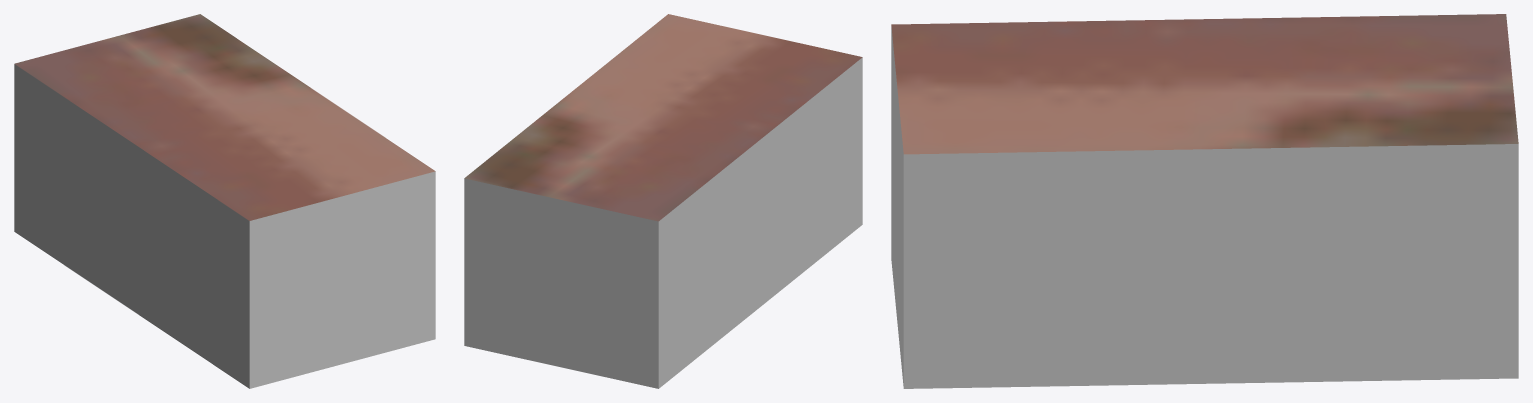
Rendered from DEBW_001000qHyx6.gltf.
3 renders of one model, left to right at view 1: azimuth 30°, elevation 25°; view 2: azimuth 150°, elevation 25°; view 3: azimuth 270°, elevation 25°, orthographic. The views are drawn at different scales.
Visible parts, largest first — view 1: Z_UP; view 2: Z_UP; view 3: Z_UP.
Boxes of the visible parts, x1=… form: Z_UP: x1=14, y1=14, x2=435, y2=388; Z_UP: x1=464, y1=14, x2=862, y2=388; Z_UP: x1=891, y1=14, x2=1518, y2=388.
Size of the model in its own units: 3.21 by 2.5 by 6.06.
2 materials, 1 textured.
